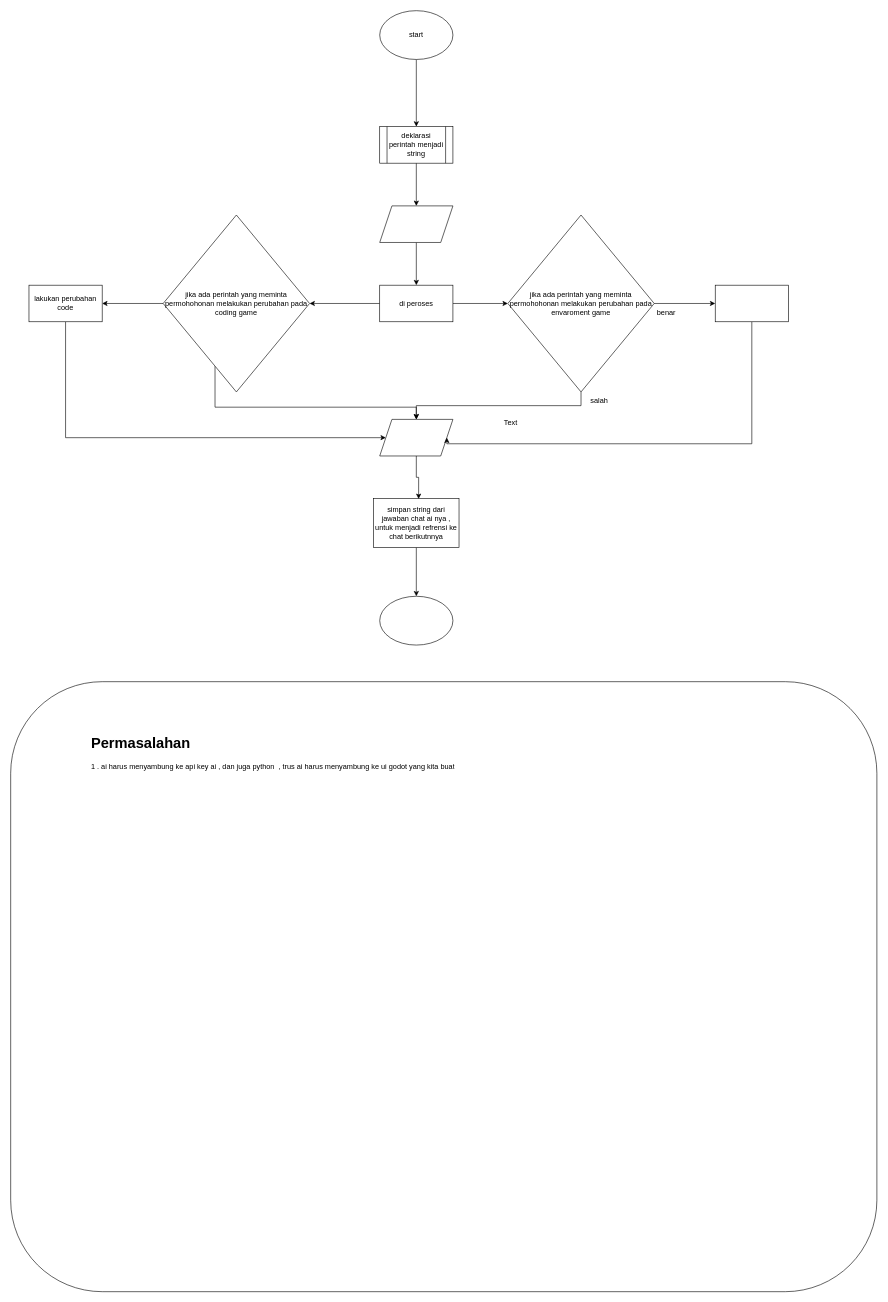
Image size: 888x1302. Some labels were removed from this diagram. The box of each missing label's shape, as (x1, y1, x2, y2) in pixels:
Input perintah yang akan di berikan ke ai: (379, 205, 453, 242)
keluar kan jawaban dari perintah dari chat ai: (379, 419, 453, 456)
lakukan perubahan envorment: (715, 285, 788, 322)
stop: (379, 596, 453, 645)
